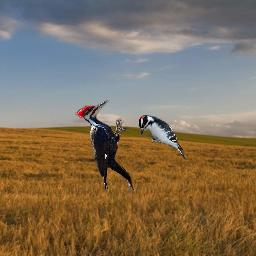Woodpecker: (75, 100, 134, 191), (138, 114, 187, 161)
